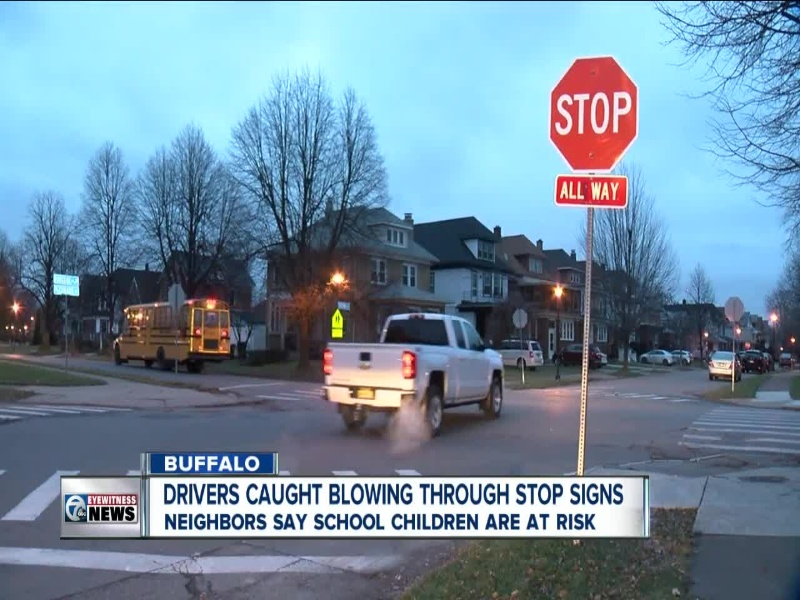stop sign: (545, 53, 641, 178)
